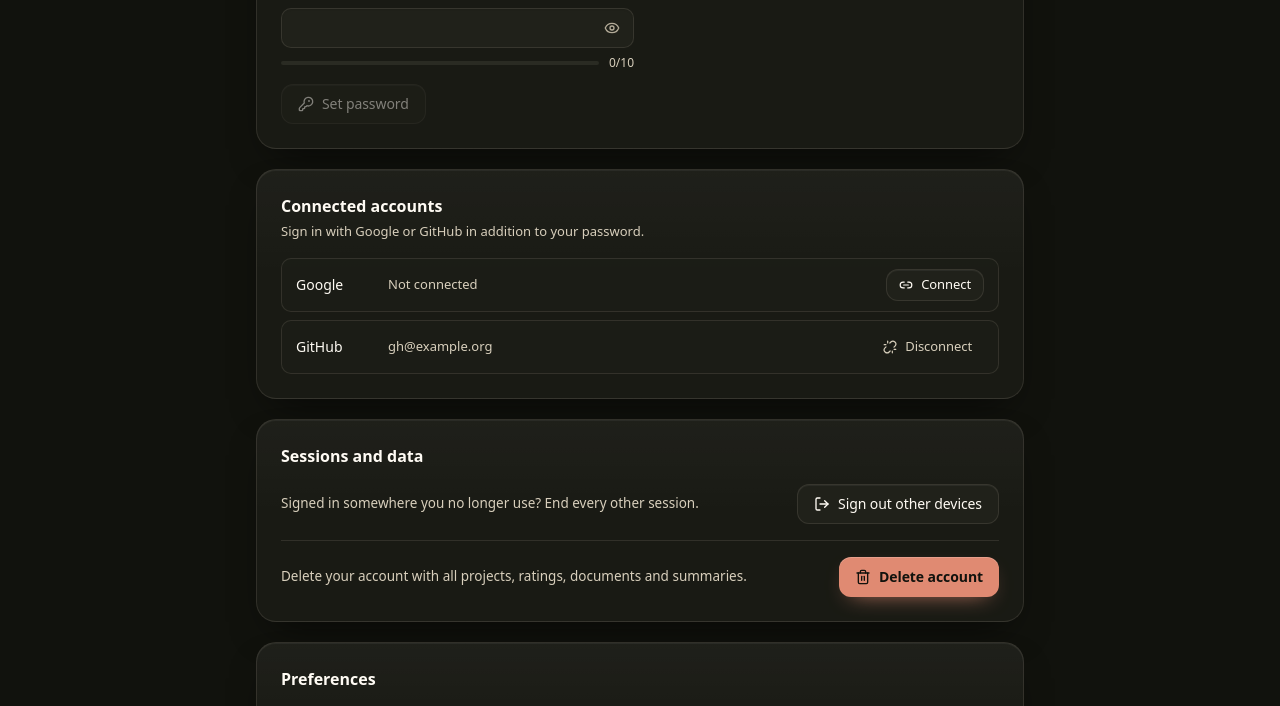
Test: SettingsPage › connects providers through the API and refuses to remove the last sign-in method
(page scrolled)
Step 1. Click the button "Disconnect" → (928,346), box [871,330,984,362]
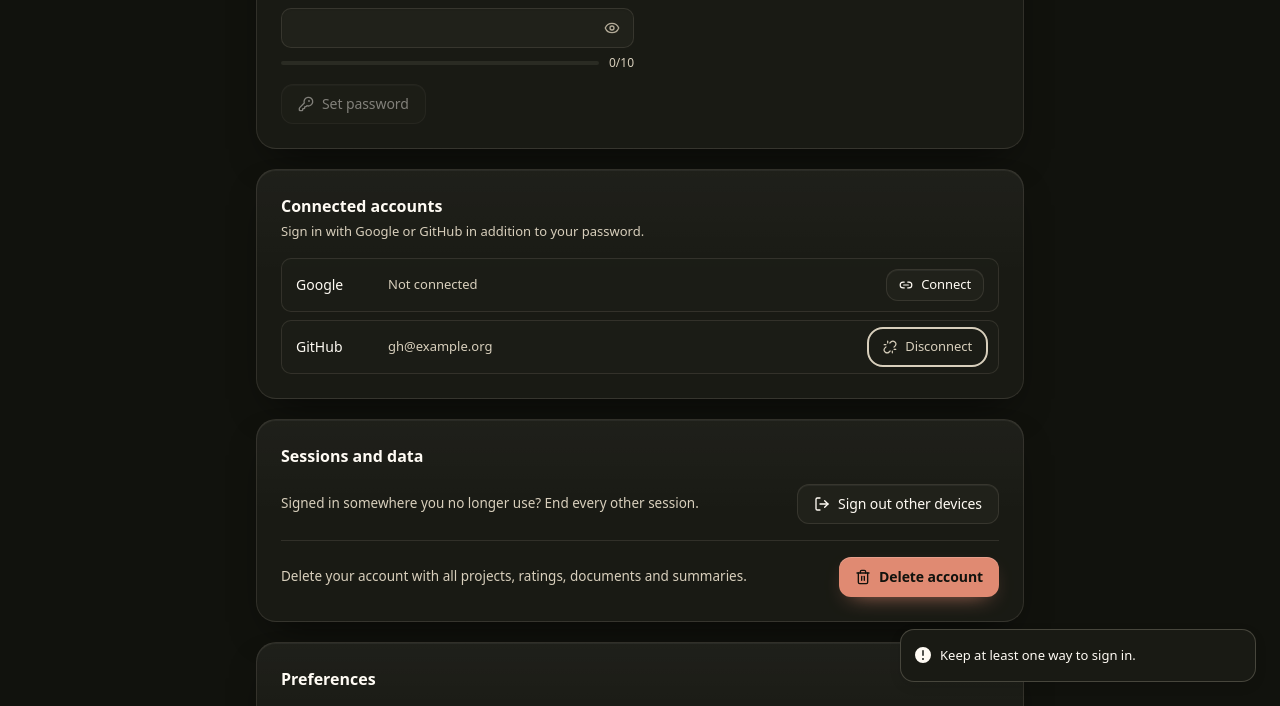
Check: the text "Keep at least one way to sign in." is shown, box [940,646,1136,665]
